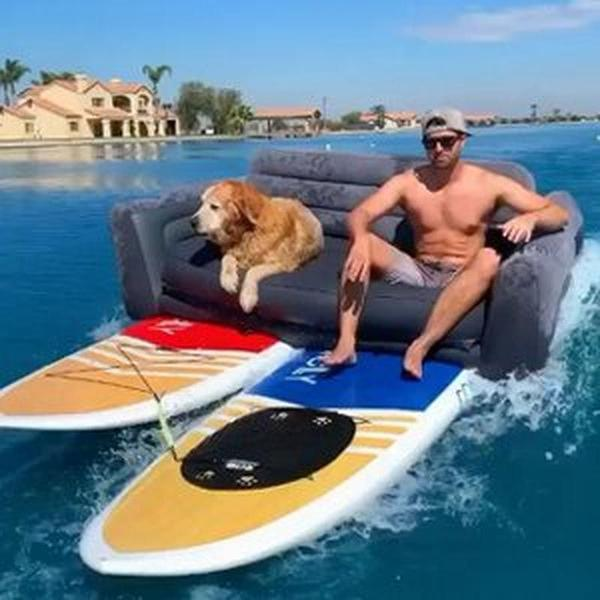allqu: (163, 167, 333, 316)
